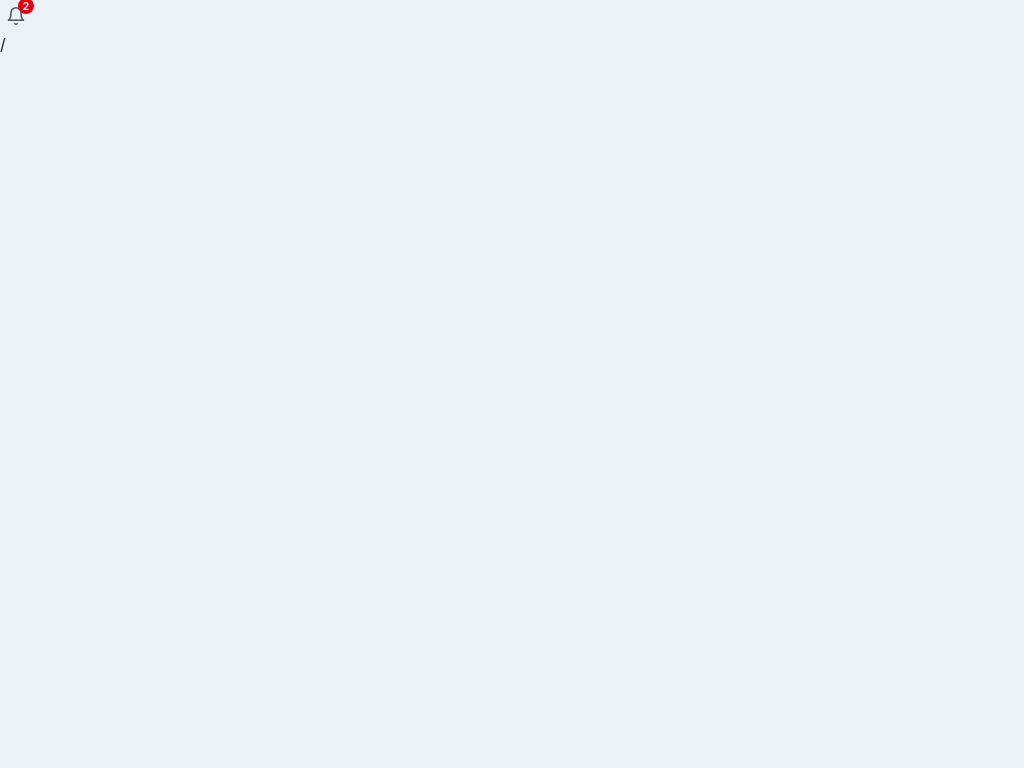
Test: NotificationBell › opens with keyboard focus in the list, moves with arrows, closes on Escape
The image size is (1024, 768).
Step 1. Click the button named "2 oxunmamış" → x=16, y=16, box [0,0,32,32]
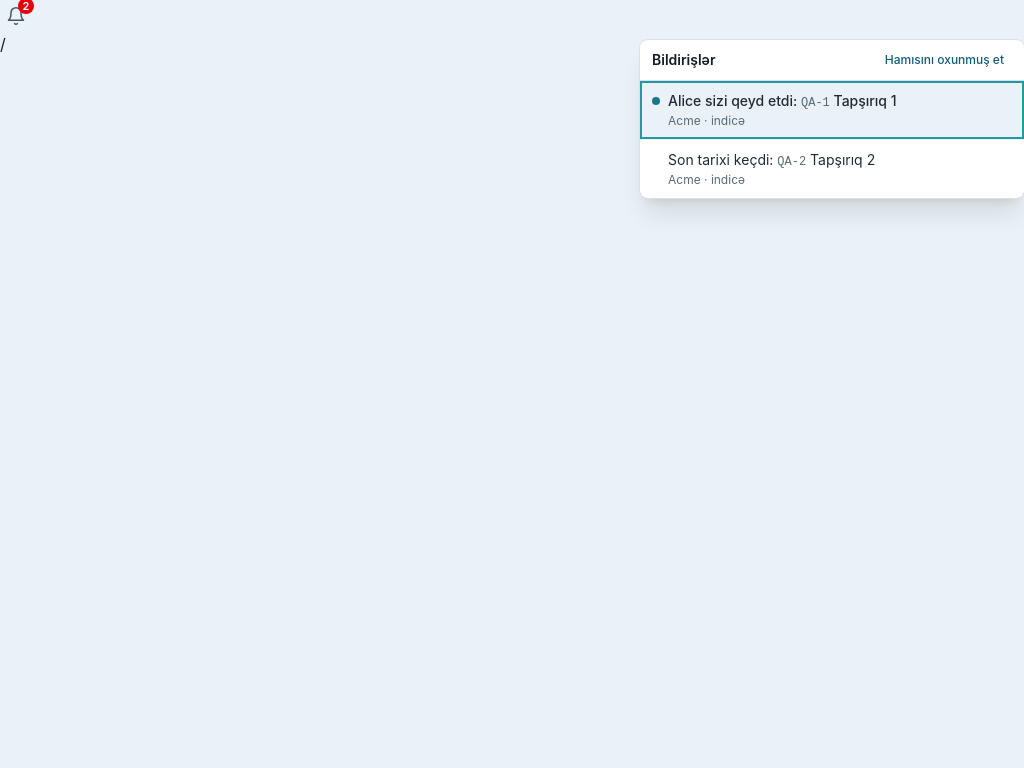
Expected: the number of links is 2, [640,81,1023,139]; [668,151,875,187]
Expected: the link "Alice sizi qeyd etdi: QA-1 Tapşırıq 1 Acme · indicə" is shown, [640,81,1023,139]
Expected: the link "Son tarixi keçdi: QA-2 Tapşırıq 2 Acme · indicə" is shown, [668,151,875,187]
Step 2. Press ArrowDown in the dialog "Bildirişlər", box [640,40,1023,198]
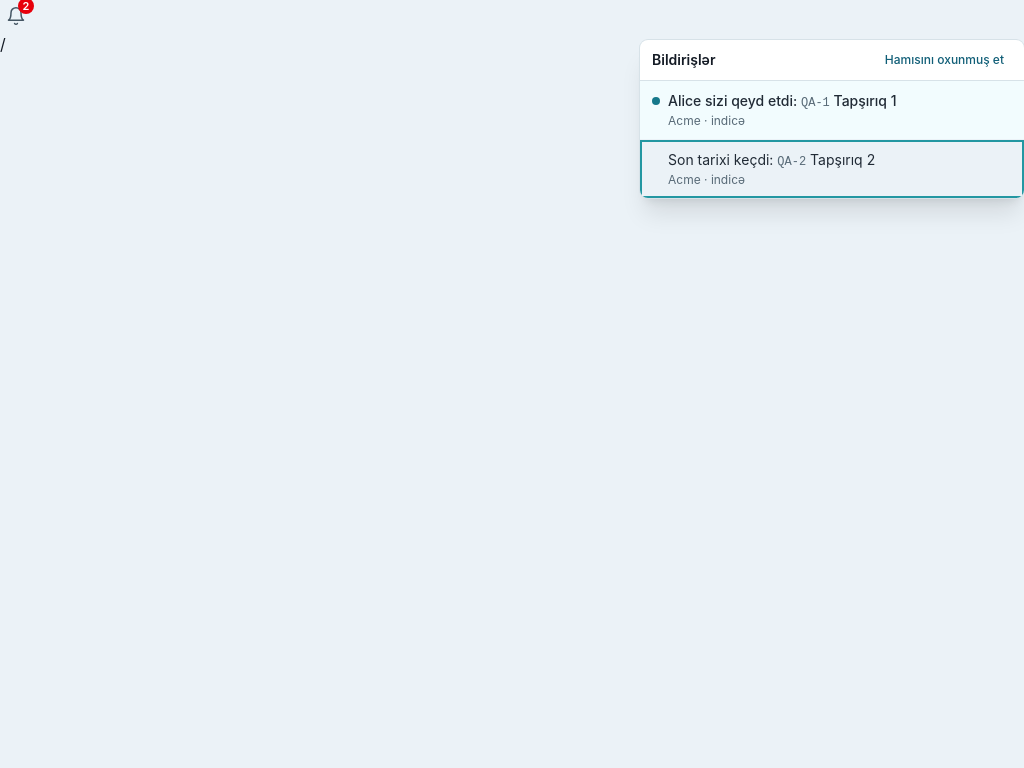
Step 3. Press ArrowDown in the dialog "Bildirişlər", box [640,40,1023,198]
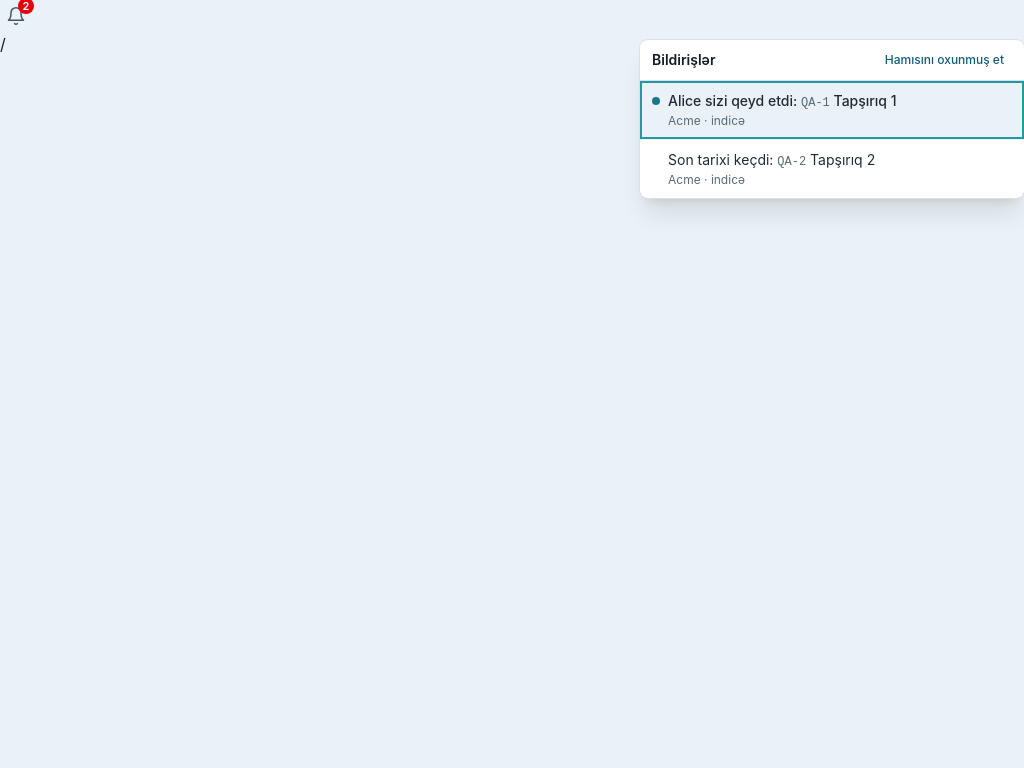
Step 4. Press Escape in the dialog "Bildirişlər", box [640,40,1023,198]
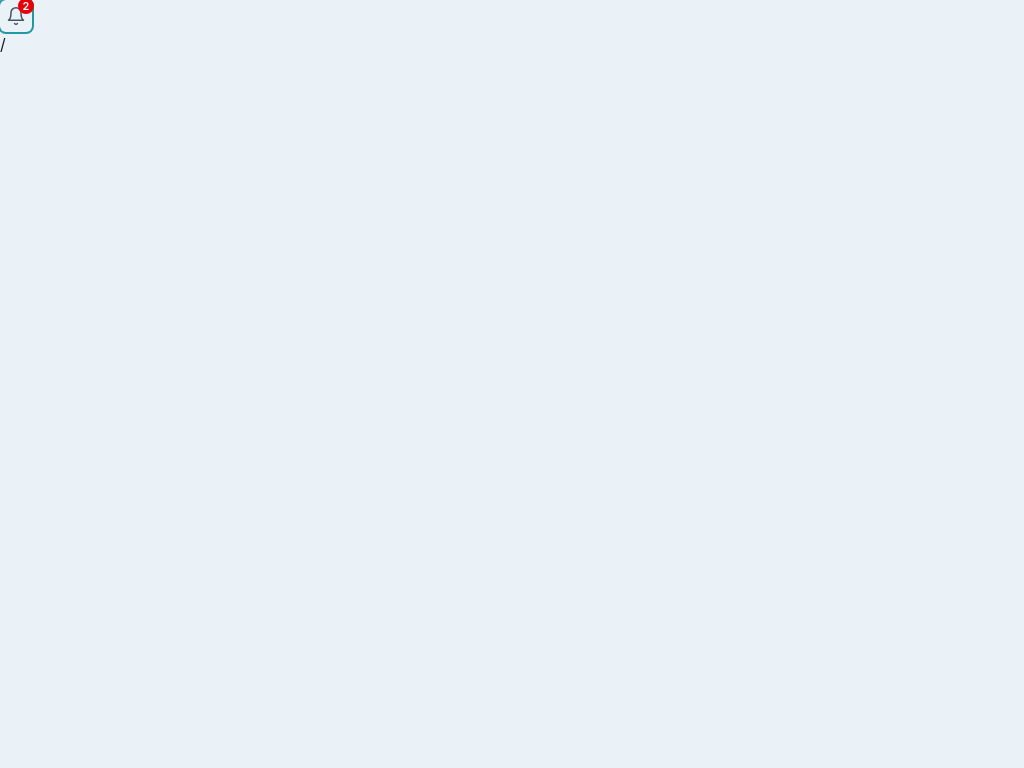
Expected: the dialog is gone
